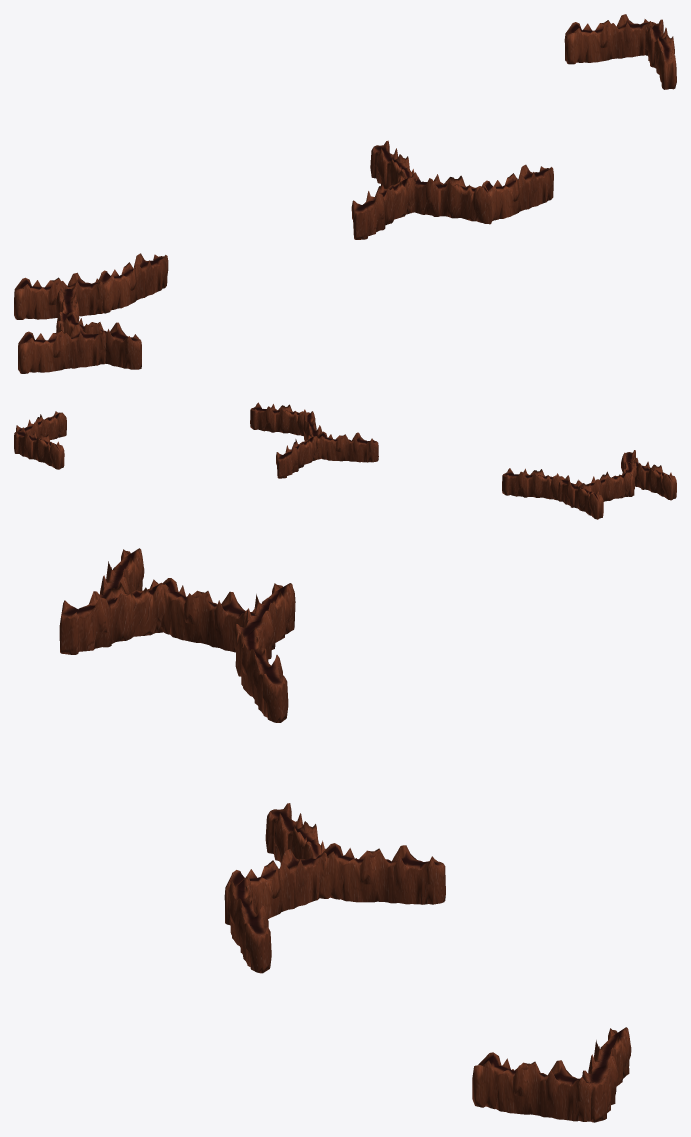
The model's file is LV2Crack.fbx.
3 renders of one model, top to bottom at view 1: azimuth 30°, elevation 25°; view 2: azimuth 150°, elevation 25°; view 3: azimuth 270°, elevation 25°, orthographic. The views are drawn at different scales.
Parts seen in each view (by area): view 1: polySurface430; view 2: polySurface430; view 3: polySurface430.
Boxes of the visible parts, <box> form: polySurface430: <box>14,14,676,373</box>; polySurface430: <box>14,402,676,519</box>; polySurface430: <box>59,548,631,1122</box>.
Bounding box in the file's own units: 288 × 12.69 × 130.
